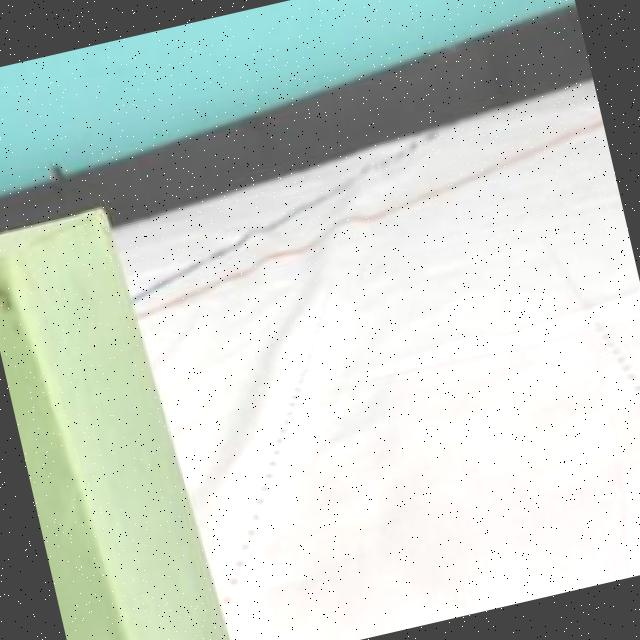greenbox: (0, 198, 242, 640)
